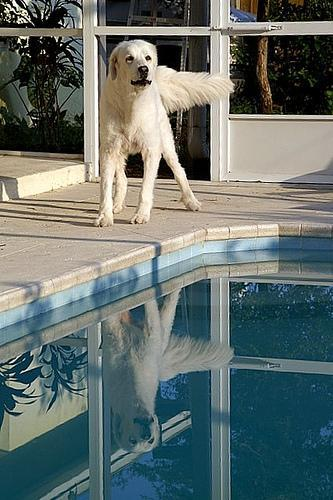Great_Pyrenees: (91, 40, 235, 230)
